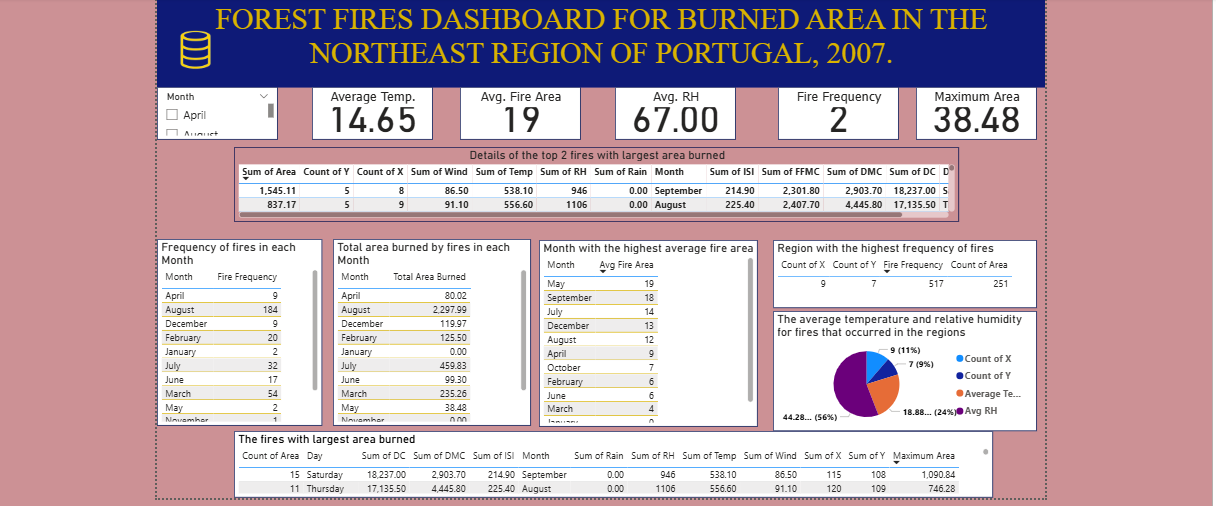

Layout of this report page (visuals, bound fields, positions):
{"tool":"powerbi","page":{"name":"Page 1","canvas":[1280,720],"ordinal":0},"visuals":[{"type":"shape","box":[0,23.5,1280,23.5],"z":0},{"type":"textbox","box":[0,0,1280,129.3],"z":1000},{"type":"image","box":[0,0,110.6,148.7],"z":2000},{"type":"slicer","title":"Average Temperature and relative Humidity for Fres that occurred in the Regions","fields":{"Values":["forestfires.Month"]},"box":[0,128.7,174.1,76.1],"z":3000},{"type":"card","title":"Average Temp.","fields":{"Values":["forestfires.Average Temp"]},"box":[223,128.7,174.1,76.1],"z":4000},{"type":"card","title":"Avg. Fire Area","fields":{"Values":["forestfires.Avg Fire Area"]},"box":[436.9,128.7,174.1,76.1],"z":5000},{"type":"card","title":"Avg. RH","fields":{"Values":["forestfires.Avg RH"]},"box":[659.9,128.7,174.1,76.1],"z":6000},{"type":"card","title":"Fire Frequency","fields":{"Values":["forestfires.Fire Frequency"]},"box":[893.8,128.7,174.1,76.1],"z":7000},{"type":"card","title":"Maximum Area","fields":{"Values":["forestfires.Maximum Area"]},"box":[1093.3,128.7,174.1,76.1],"z":8000},{"type":"tableEx","title":"Details of the top 2 fires with largest area burned","fields":{"Values":["Sum(forestfires.Area)","Count(forestfires.Y)","Count(forestfires.X)","Sum(forestfires.Wind)","Sum(forestfires.Temp)","Sum(forestfires.RH)","Sum(forestfires.Rain)","forestfires.Month","Sum(forestfires.ISI)","Sum(forestfires.FFMC)","Sum(forestfires.DMC)","Sum(forestfires.DC)"]},"box":[110.9,214.6,1044,108],"z":9000},{"type":"tableEx","title":"Total area burned by fires in each Month","fields":{"Values":["forestfires.Month","forestfires.Total Area Burned"]},"box":[253.4,347,285.1,269.3],"z":10000},{"type":"tableEx","title":"Frequency of fires in each Month","fields":{"Values":["forestfires.Month","forestfires.Fire Frequency"]},"box":[0,347,237.6,269.3],"z":11000},{"type":"tableEx","title":"Month with the highest average fire area","fields":{"Values":["forestfires.Month","forestfires.Avg Fire Area"]},"box":[550.1,348.5,315.4,269.3],"z":12000},{"type":"tableEx","title":"Region with the highest frequency of fires","fields":{"Values":["Count(forestfires.X)","Count(forestfires.Y)","forestfires.Fire Frequency","Count(forestfires.Area)"]},"box":[887,348.5,380.2,97.9],"z":13000},{"type":"tableEx","title":"The fires with largest area burned","fields":{"Values":["Count(forestfires.Area)","forestfires.Day","Sum(forestfires.DC)","Sum(forestfires.DMC)","Sum(forestfires.ISI)","forestfires.Month","Sum(forestfires.Rain)","Sum(forestfires.RH)","Sum(forestfires.Temp)","Sum(forestfires.Wind)","Sum(forestfires.X)","Sum(forestfires.Y)"]},"box":[110.9,623.5,1093,96.5],"z":14000},{"type":"pieChart","title":"The average temperature and relative humidity for fires that occurred in the regions","fields":{"Y":["Count(forestfires.X)","Count(forestfires.Y)","forestfires.Average Temp","forestfires.Avg RH"]},"box":[887,450.7,380.2,172.8],"z":15000}]}

Visuals, with their boxes in screenshot pixels (x1, y1, x2, y2):
shape: [left=152, top=13, right=1040, bottom=29]
textbox: [left=152, top=0, right=1040, bottom=87]
image: [left=152, top=0, right=229, bottom=100]
"Average Temperature and relative Humidity for Fres that occurred in the Regions" slicer: [left=152, top=86, right=273, bottom=139]
"Average Temp." card: [left=307, top=86, right=428, bottom=139]
"Avg. Fire Area" card: [left=455, top=86, right=576, bottom=139]
"Avg. RH" card: [left=610, top=86, right=731, bottom=139]
"Fire Frequency" card: [left=772, top=86, right=893, bottom=139]
"Maximum Area" card: [left=911, top=86, right=1032, bottom=139]
"Details of the top 2 fires with largest area burned" tableEx: [left=229, top=146, right=953, bottom=221]
"Total area burned by fires in each Month" tableEx: [left=328, top=238, right=526, bottom=425]
"Frequency of fires in each Month" tableEx: [left=152, top=238, right=317, bottom=425]
"Month with the highest average fire area" tableEx: [left=534, top=239, right=753, bottom=426]
"Region with the highest frequency of fires" tableEx: [left=768, top=239, right=1031, bottom=307]
"The fires with largest area burned" tableEx: [left=229, top=430, right=987, bottom=496]
"The average temperature and relative humidity for fires that occurred in the regions" pieChart: [left=768, top=310, right=1031, bottom=430]
